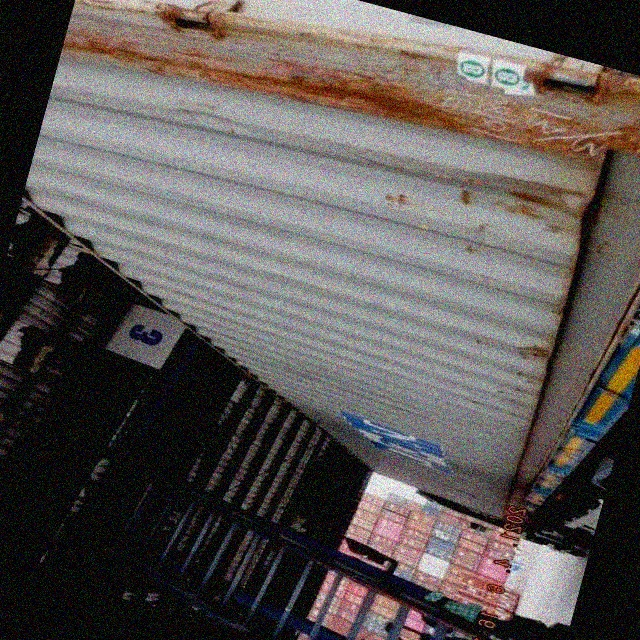Dent: (179, 98, 266, 148)
Rusty: (454, 157, 590, 237)
